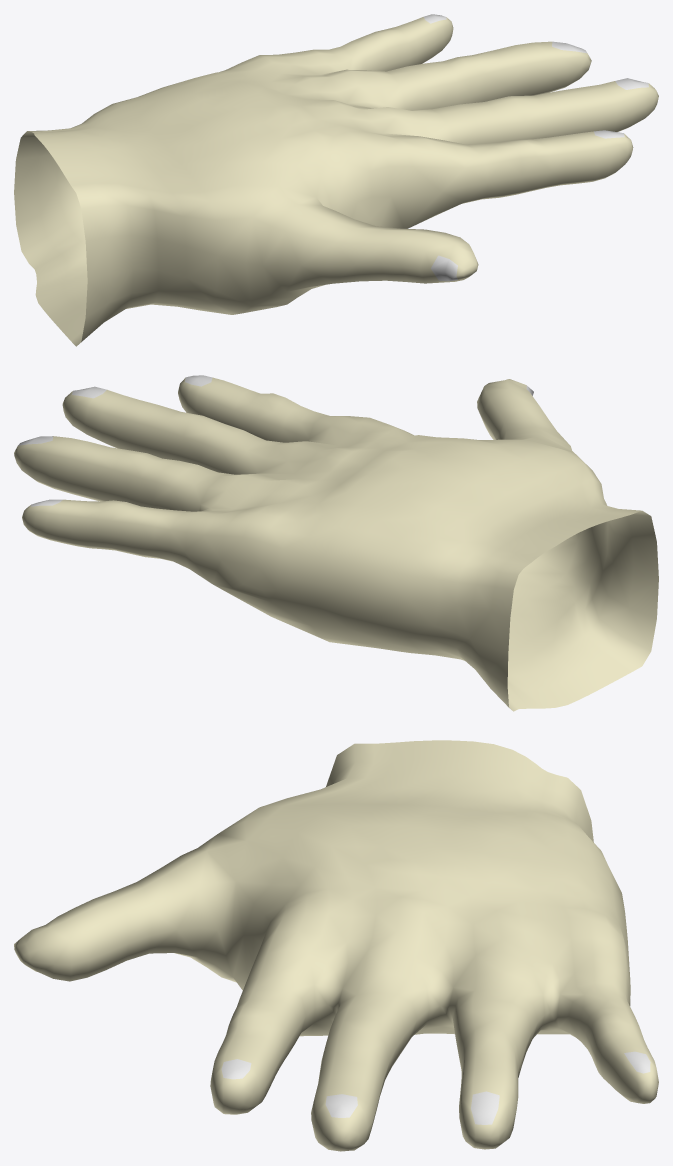
The model's file is hand.glb.
3 views of the same model, one above another, from view 1: azimuth 30°, elevation 25°; view 2: azimuth 150°, elevation 25°; view 3: azimuth 270°, elevation 25° (orthographic). The views are drawn at different scales.
Parts seen in each view (by area): view 1: Cube; view 2: Cube; view 3: Cube.
Part boxes in pixels (box(x1,y1,x2,y2)): Cube: box(14, 14, 658, 346); Cube: box(14, 375, 658, 711); Cube: box(14, 740, 658, 1151).
Bounding box in the file's own units: 8.95 × 2.55 × 6.95.
